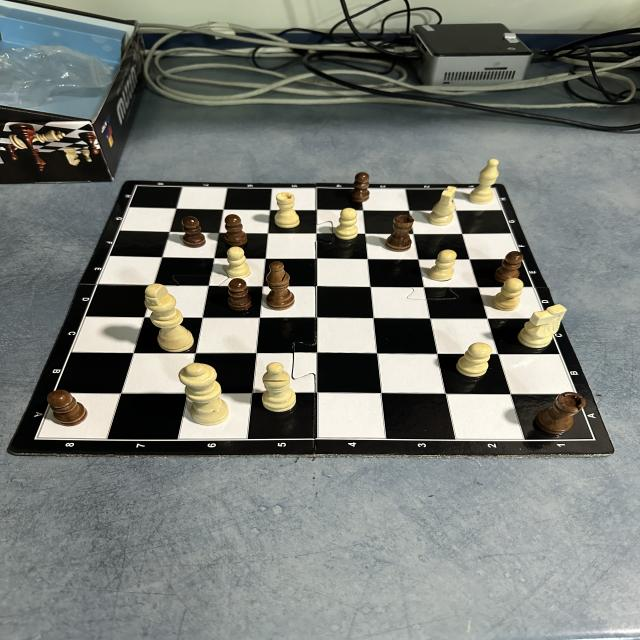Black-Bishop: (266, 261, 295, 311)
Black-Pawn: (46, 389, 88, 426), (493, 251, 524, 284), (227, 278, 253, 311), (182, 216, 207, 248), (224, 214, 248, 247), (350, 172, 371, 202)
Black-Rook: (535, 392, 586, 436), (386, 214, 414, 252)
White-Bishop: (262, 362, 296, 412), (468, 158, 500, 205)
White-King: (143, 283, 195, 353)
White-Knight: (517, 304, 567, 349), (428, 186, 457, 226)
White-Pawn: (456, 342, 492, 377), (492, 278, 525, 312), (428, 249, 458, 281), (225, 247, 251, 279), (334, 208, 359, 240)
White-Queen: (178, 362, 229, 426)
White-Rook: (274, 192, 301, 229)
